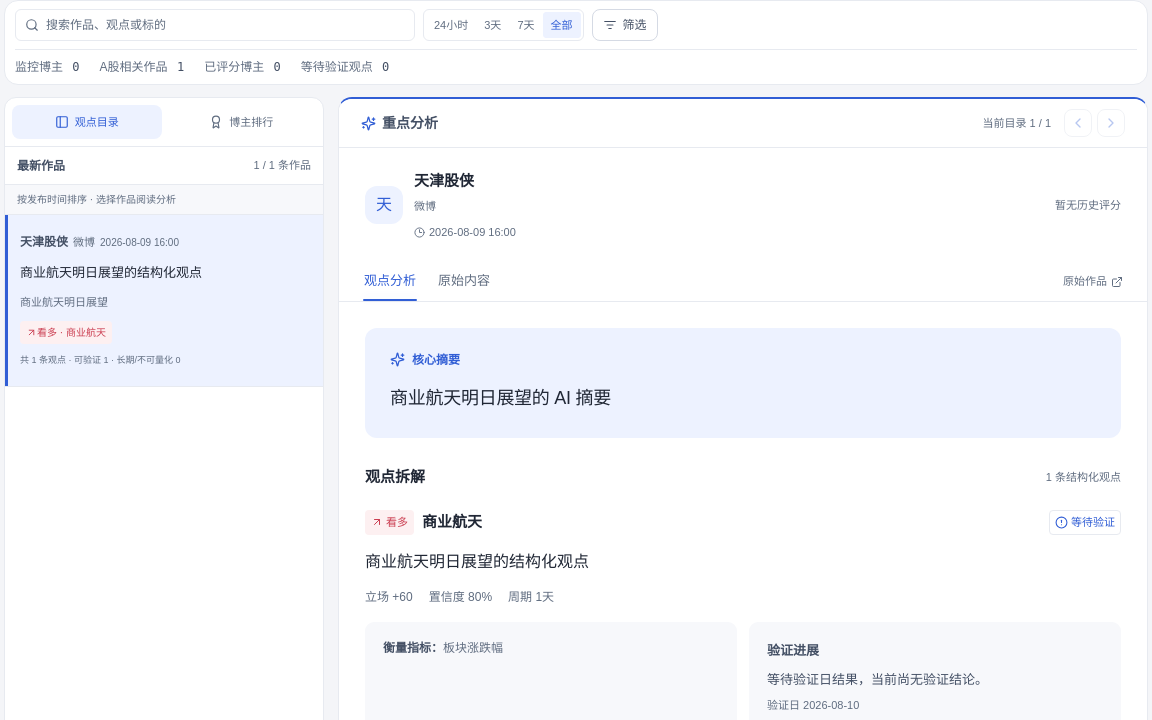
it: CreatorInsightsView › keeps the work stream and detail usable when rankings fail
The image size is (1152, 720).
What coordinates should you click on to do the following:
click the button "博主排行"
I would click on:
 (241, 122)
Its box is [166, 105, 316, 139].
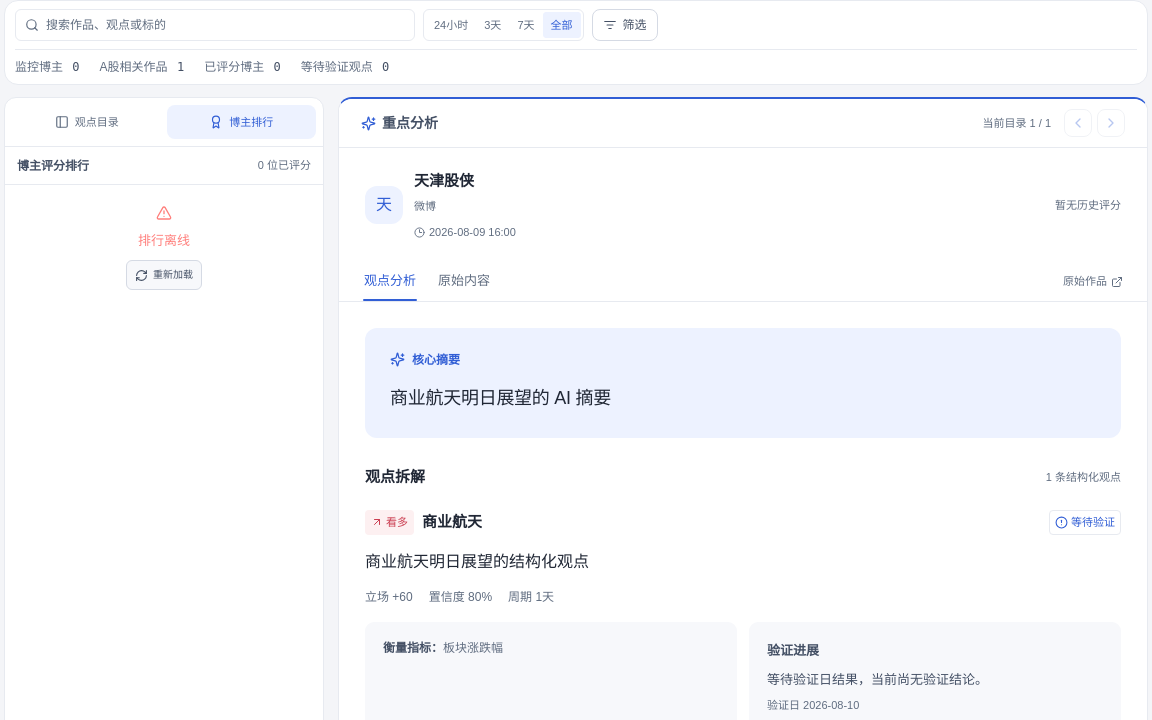
Expected: the text "商业航天明日展望" is shown, [390, 388, 611, 408]
Expected: the text "排行离线" is shown, [138, 229, 190, 252]
